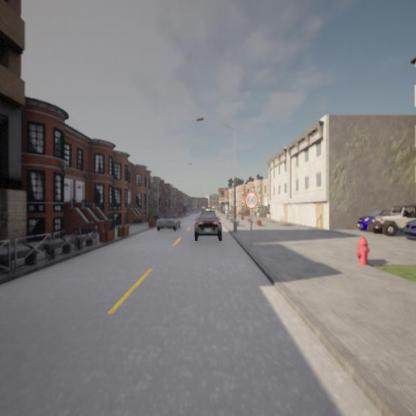traffic_sign_60: (244, 192, 257, 208)
vehicle: (358, 205, 416, 236), (193, 211, 222, 240), (156, 214, 182, 233), (403, 219, 415, 241)
